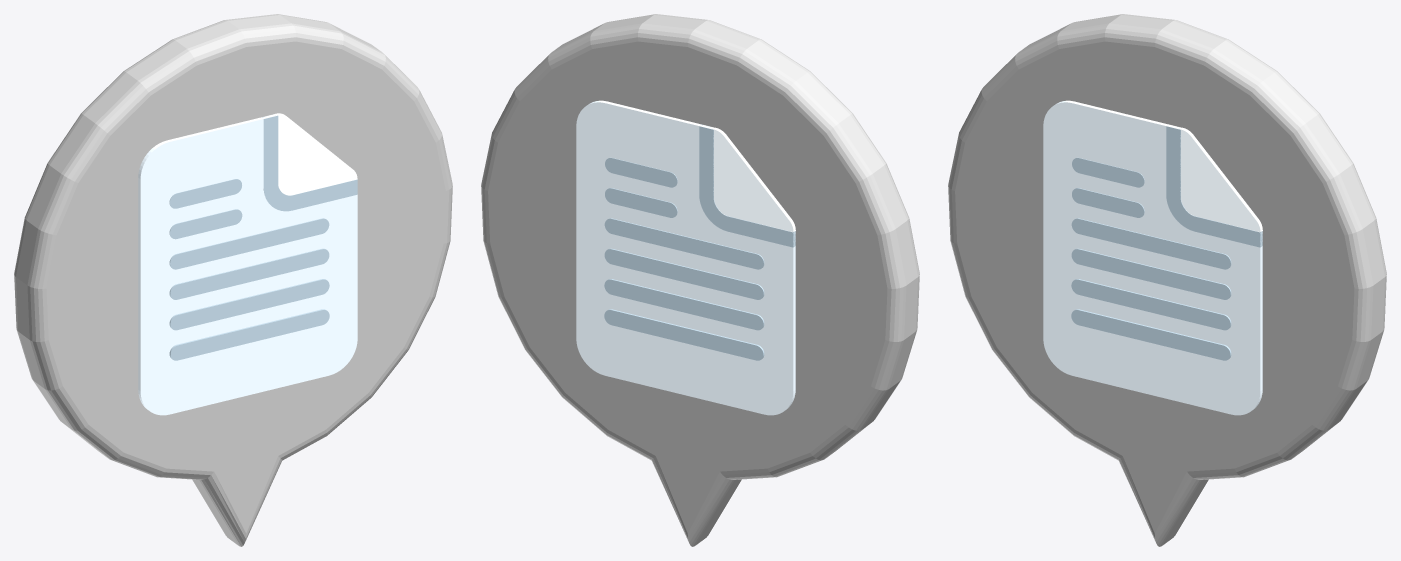
File: page_facing_up.glb
3 views of the same model, side by side, from view 1: azimuth 30°, elevation 25°; view 2: azimuth 150°, elevation 25°; view 3: azimuth 330°, elevation 25° (orthographic).
Parts seen in each view (by area): view 1: EmotionBubble; view 2: EmotionBubble; view 3: EmotionBubble.
Part boxes in pixels (bbox=[...]): EmotionBubble: bbox=[14, 14, 452, 546]; EmotionBubble: bbox=[481, 14, 919, 546]; EmotionBubble: bbox=[948, 14, 1386, 546].
Size of the model in its own units: 5.29 by 6.16 by 0.718.
